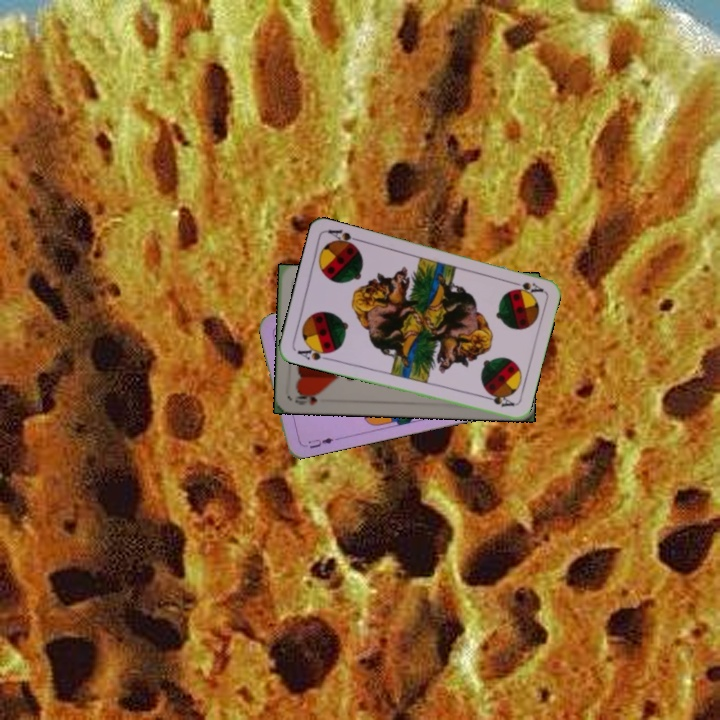EU: (299, 433, 336, 451)
HO: (291, 389, 323, 408)
SA: (293, 342, 334, 363), (505, 277, 546, 297)
